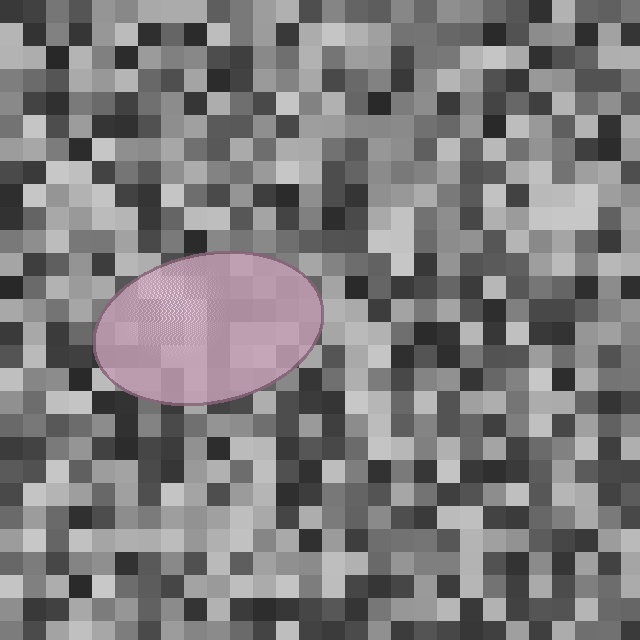lens: (94, 252, 322, 404)
